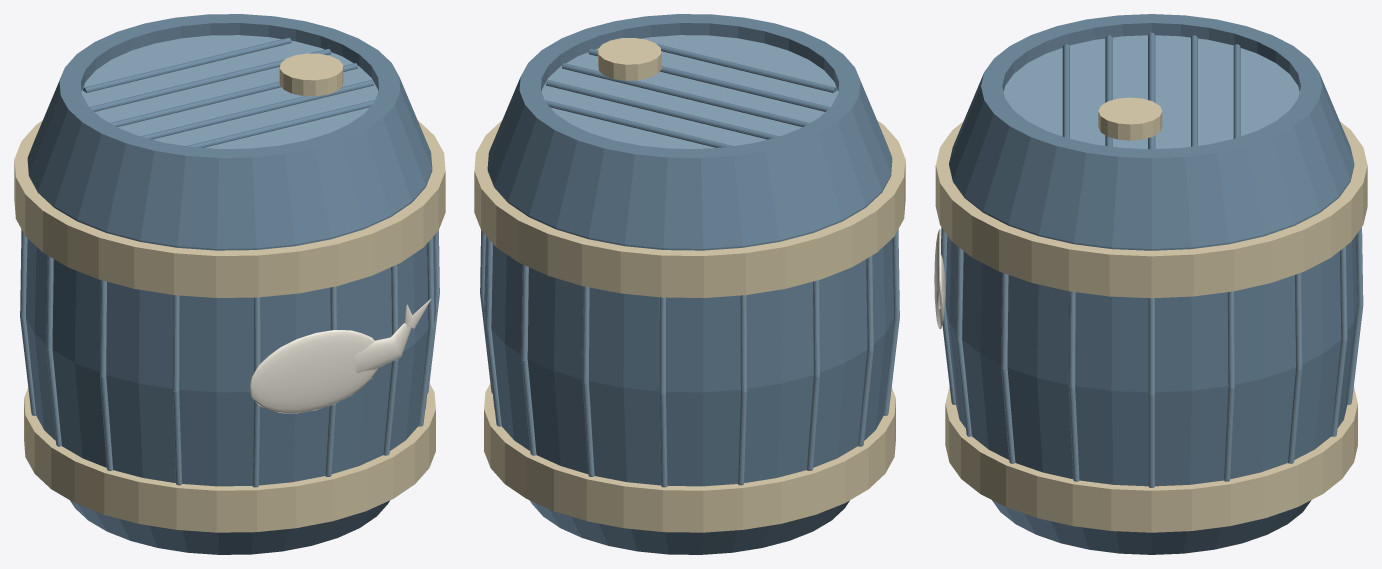
File: library_water_barrel.glb
The picture shows the model from 3 angles, left to right: view 1: azimuth 30°, elevation 25°; view 2: azimuth 150°, elevation 25°; view 3: azimuth 270°, elevation 25°; orthographic projection.
Visible parts, largest first — view 1: decor_29445e_matte, decor_bca46d_metal, decor_466a88_matte, decor_e0d7bf_matte; view 2: decor_29445e_matte, decor_bca46d_metal, decor_466a88_matte; view 3: decor_29445e_matte, decor_bca46d_metal, decor_466a88_matte, decor_e0d7bf_matte.
Boxes of the visible parts, x1,y1,x2,y2 form: decor_29445e_matte: [26, 14, 435, 554]; decor_bca46d_metal: [14, 53, 445, 532]; decor_466a88_matte: [20, 35, 439, 487]; decor_e0d7bf_matte: [249, 299, 431, 413]; decor_29445e_matte: [484, 14, 893, 554]; decor_bca46d_metal: [474, 38, 905, 532]; decor_466a88_matte: [480, 35, 899, 487]; decor_29445e_matte: [945, 14, 1357, 554]; decor_bca46d_metal: [935, 97, 1367, 532]; decor_466a88_matte: [941, 35, 1363, 487]; decor_e0d7bf_matte: [934, 229, 945, 328].
Bounding box in the file's own units: 1.21 × 1.27 × 1.22.
